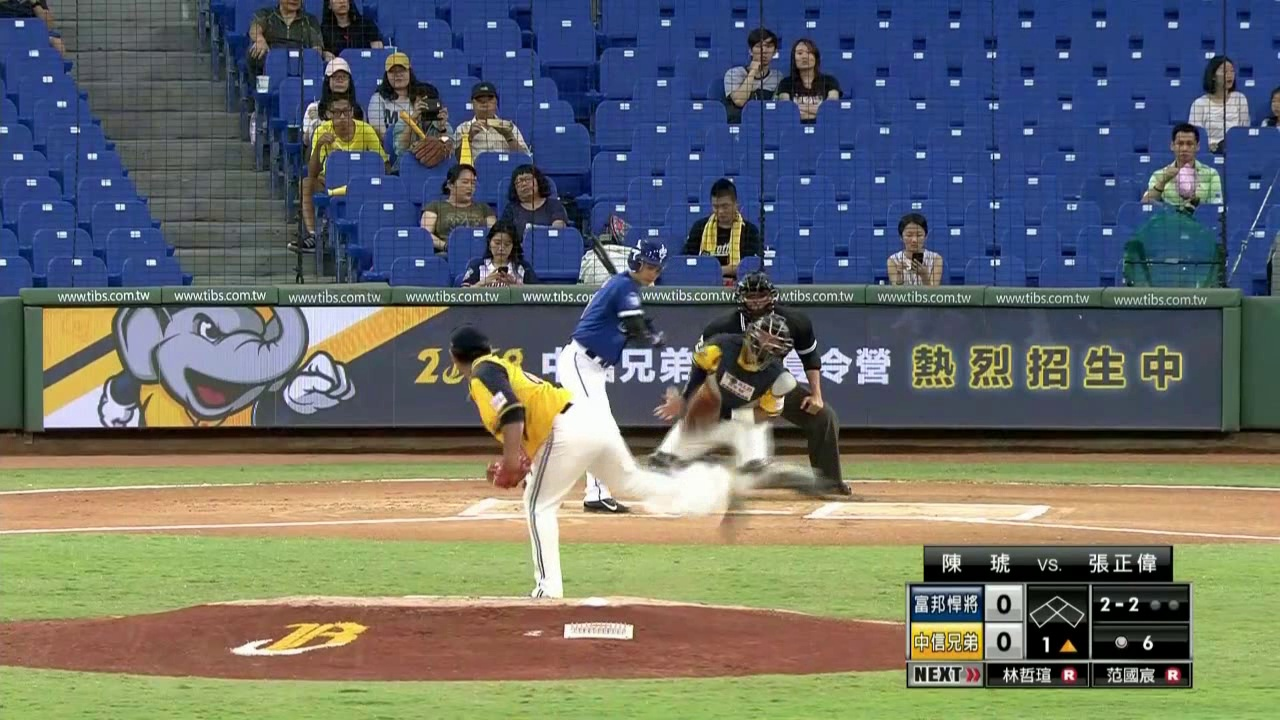ball: (667, 388, 680, 397)
base: (1027, 594, 1087, 630)
bat: (566, 193, 614, 274)
out: (1142, 585, 1182, 617)
score1: (993, 588, 1020, 620)
score2: (989, 625, 1020, 657)
session: (1028, 634, 1090, 654)
strikeball: (1097, 594, 1142, 615)
total: (1109, 626, 1161, 656)
